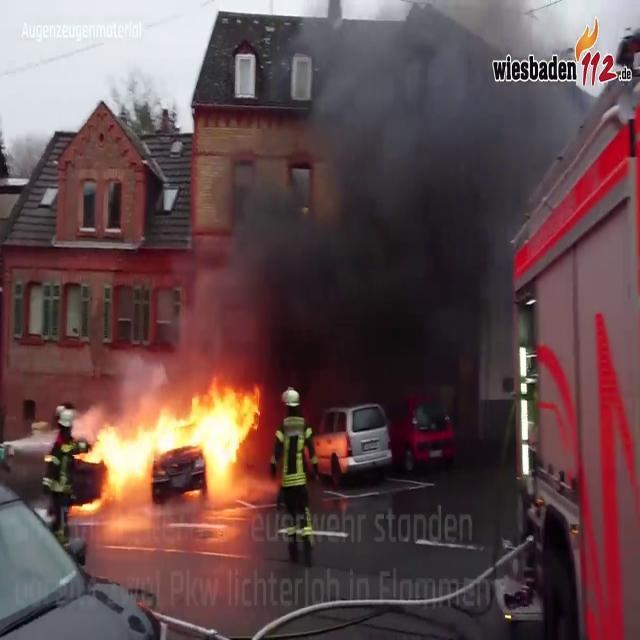Fire: (76, 374, 264, 497)
Smoke: (178, 1, 568, 392)
